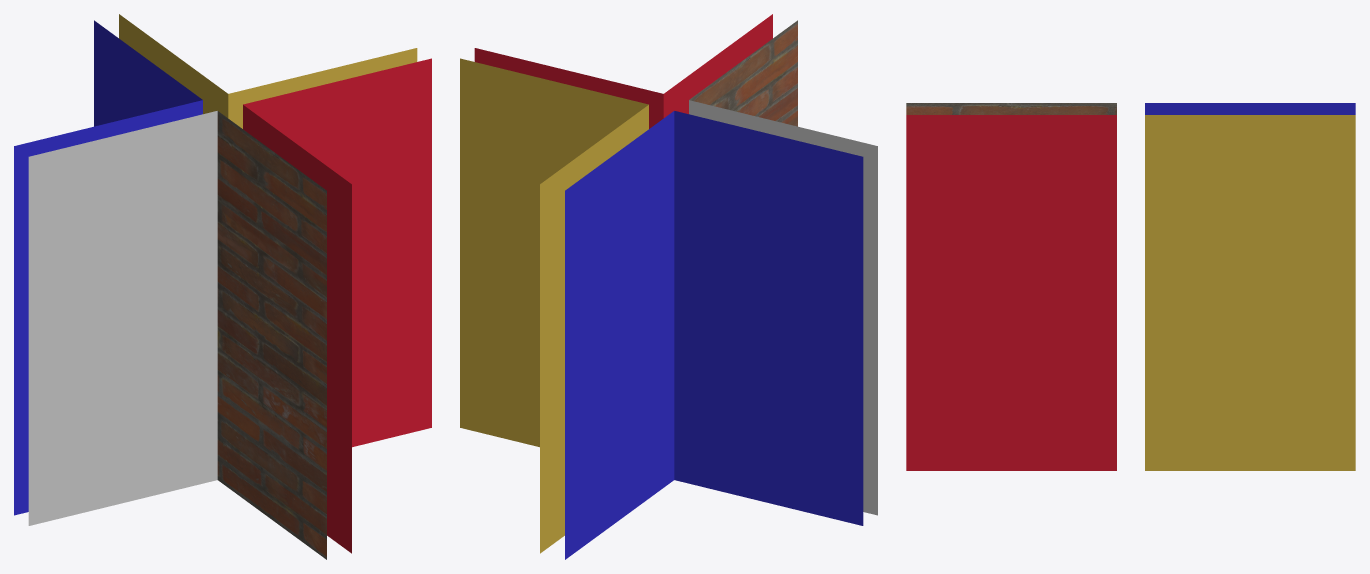
File: +_Wall_incomplete.fbx
3 renders of one model, left to right at view 1: azimuth 30°, elevation 25°; view 2: azimuth 150°, elevation 25°; view 3: azimuth 270°, elevation 25°, orthographic. The views are drawn at different scales.
Visible parts, largest first — view 1: + Wall_incomplete; view 2: + Wall_incomplete; view 3: + Wall_incomplete.
Boxes of the visible parts, box(x1,y1,x2,y2) form: + Wall_incomplete: box(14, 14, 431, 559); + Wall_incomplete: box(460, 14, 877, 559); + Wall_incomplete: box(906, 103, 1355, 470).
Bounding box in the file's own units: 800 × 700 × 800.
